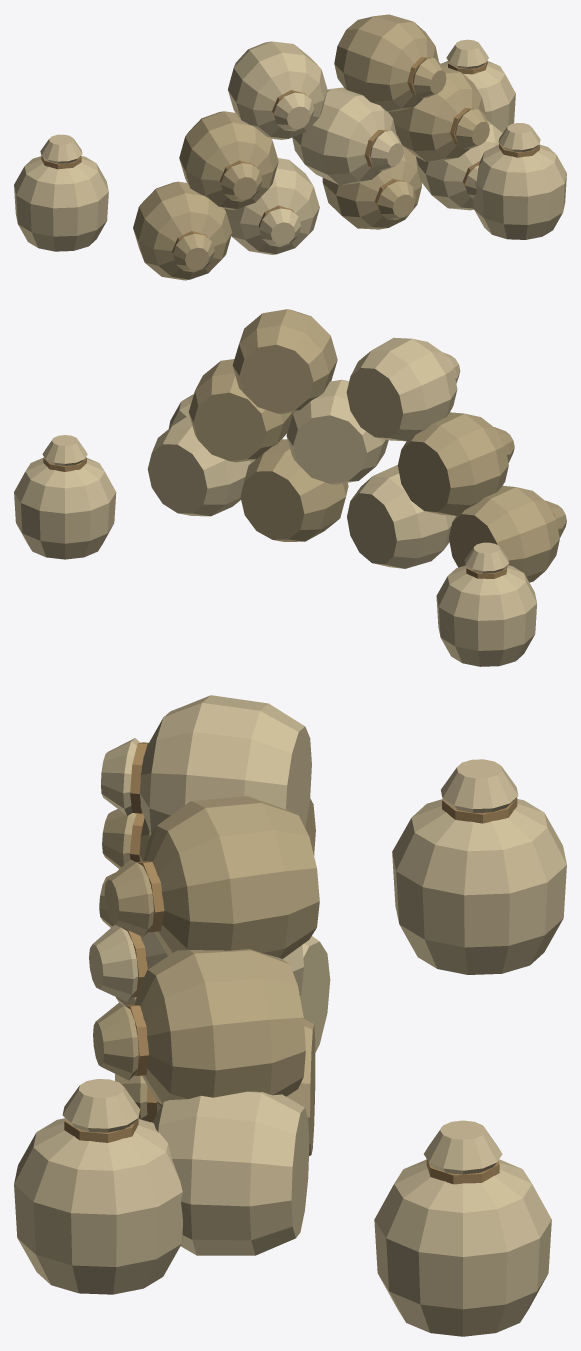
The model's file is decorativos-pila-costales.glb.
The picture shows the model from 3 angles, top to bottom: view 1: azimuth 30°, elevation 25°; view 2: azimuth 150°, elevation 25°; view 3: azimuth 270°, elevation 25°; orthographic projection. The views are drawn at different scales.
Parts seen in each view (by area): view 1: pila_costales_Costal, pila_costales_CostalViejo, pila_costales_Soga; view 2: pila_costales_Costal, pila_costales_CostalViejo, pila_costales_Soga; view 3: pila_costales_Costal, pila_costales_CostalViejo, pila_costales_Soga.
Part boxes in pixels (x1=…): pila_costales_Costal: x1=14, y1=39, x2=566, y2=254; pila_costales_CostalViejo: x1=133, y1=14, x2=489, y2=280; pila_costales_Soga: x1=41, y1=57, x2=539, y2=253; pila_costales_Costal: x1=14, y1=337, x2=536, y2=666; pila_costales_CostalViejo: x1=189, y1=309, x2=566, y2=582; pila_costales_Soga: x1=43, y1=438, x2=558, y2=578; pila_costales_Costal: x1=14, y1=695, x2=566, y2=1336; pila_costales_CostalViejo: x1=93, y1=796, x2=319, y2=1155; pila_costales_Soga: x1=64, y1=742, x2=517, y2=1184.
Bounding box in the file's own units: 3.14 × 1.26 × 1.68.
